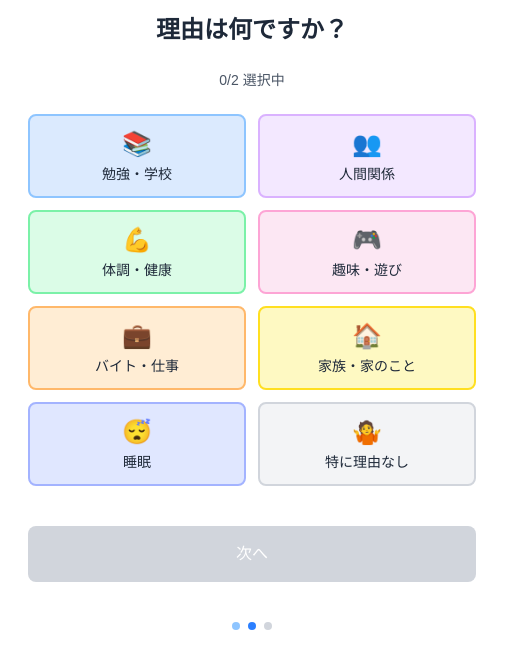
Test: RecordPage - ステップ2: 理由選択 › バリデーションテスト › 最大選択数の表示が正しい
Check: the heading "理由は何ですか？" is shown, box [156,16,348,43]
Check: the text "0/2 選択中" is shown, box [219,72,285,88]
Click the button "📚 勉強・学校".
click(137, 156)  # box [28,114,246,198]
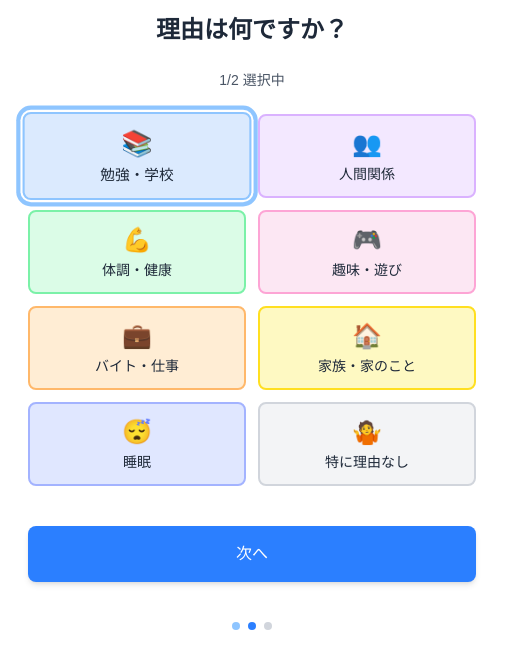
Check: the text "1/2 選択中" is shown, box [219,72,285,88]
Click the button "👥 人間関係".
click(367, 156)  # box [258,114,476,198]
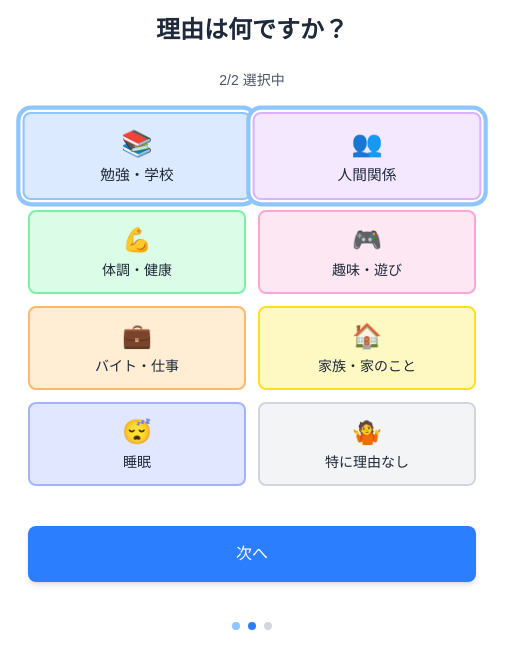
Check: the text "2/2 選択中" is shown, box [219,72,285,88]
